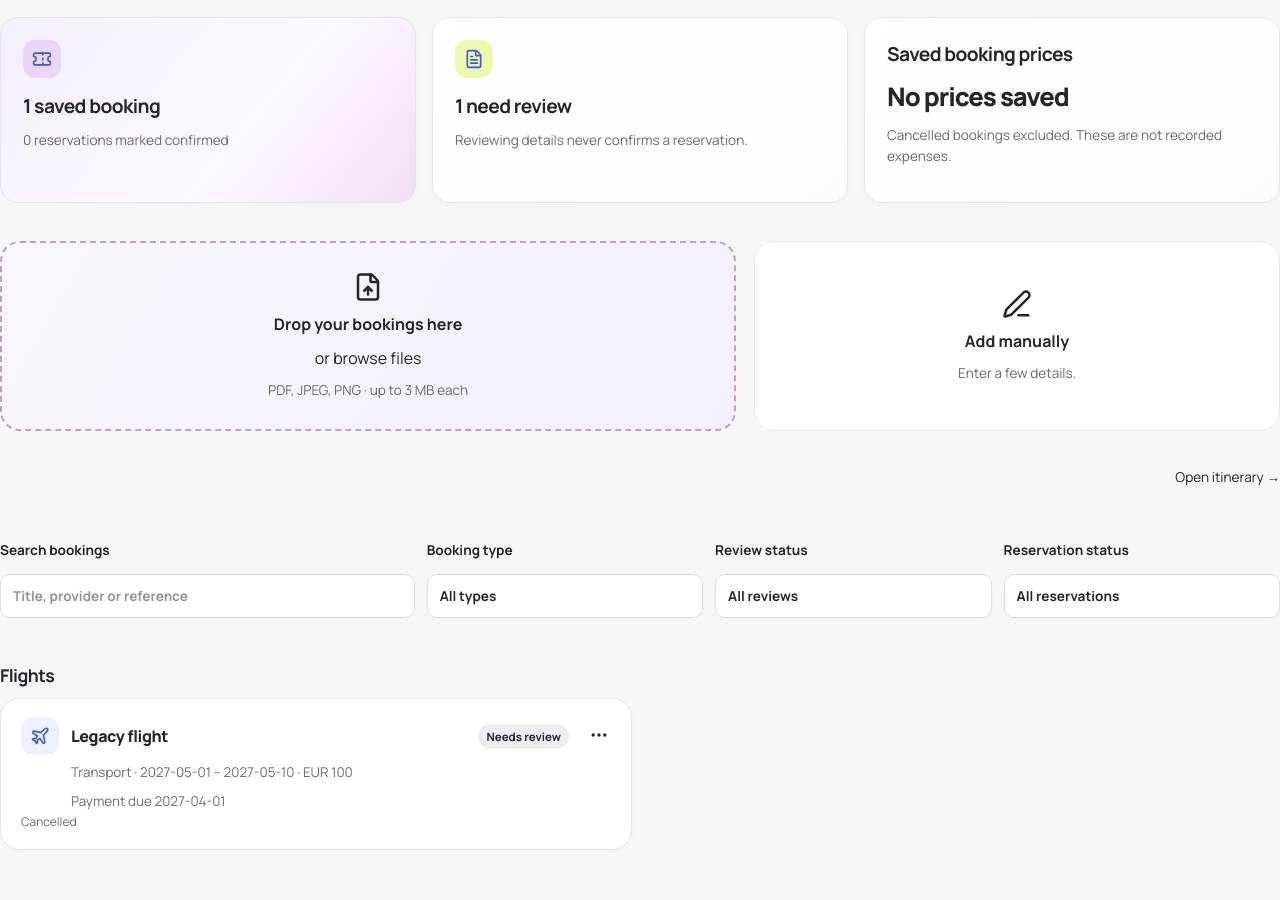
Test: opens the same compact drawer and preserves hidden fields and independent statuses
(page scrolled)
Step 1. Click the button "Legacy flight" → {"x": 120, "y": 736}, box [71,724,168,748]
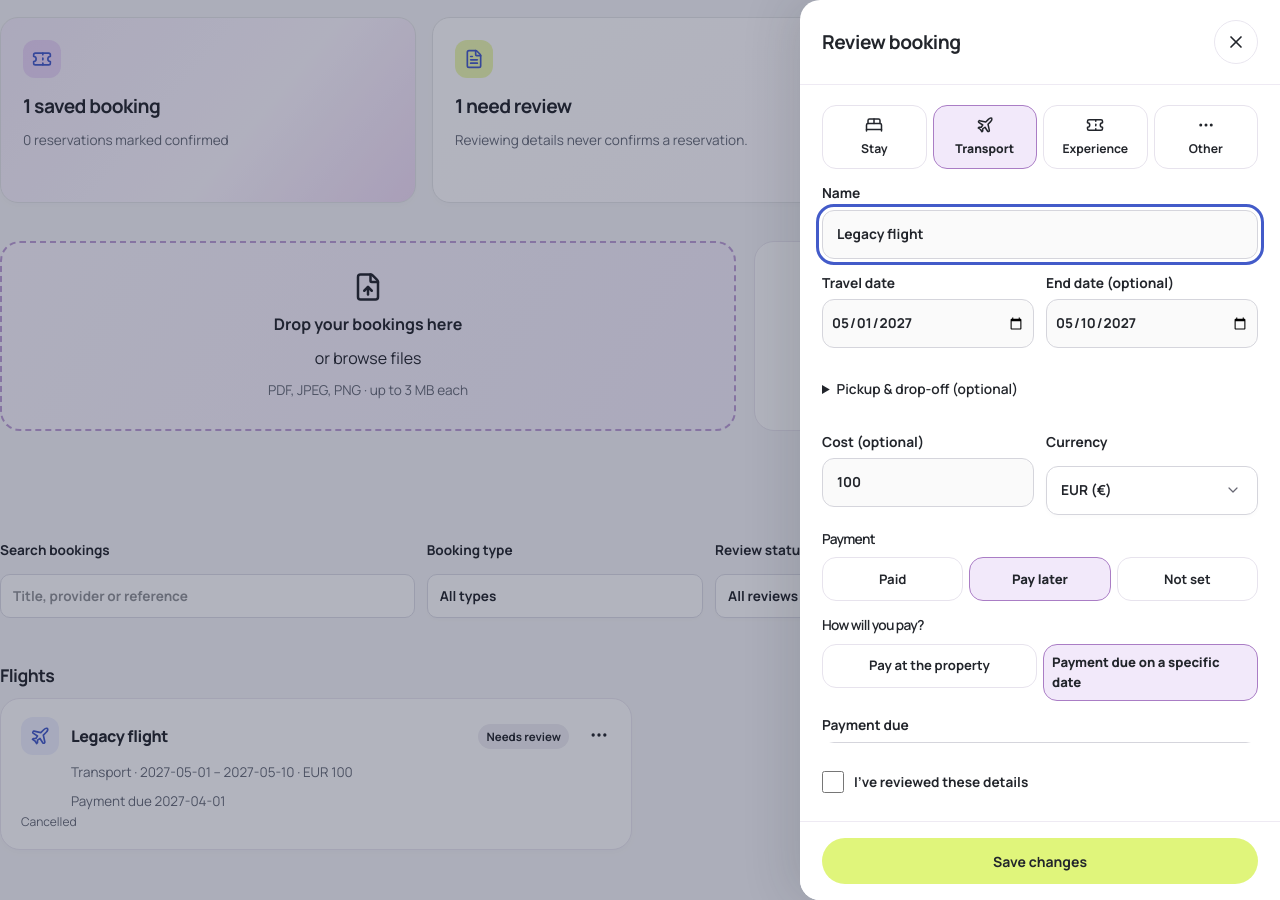
Expected: the dialog is shown, [800,0,1279,899]
Step 2. Replace the text in the field labelled "Name" with "Updated flight" → {"x": 1040, "y": 234}, box [822,210,1258,258]
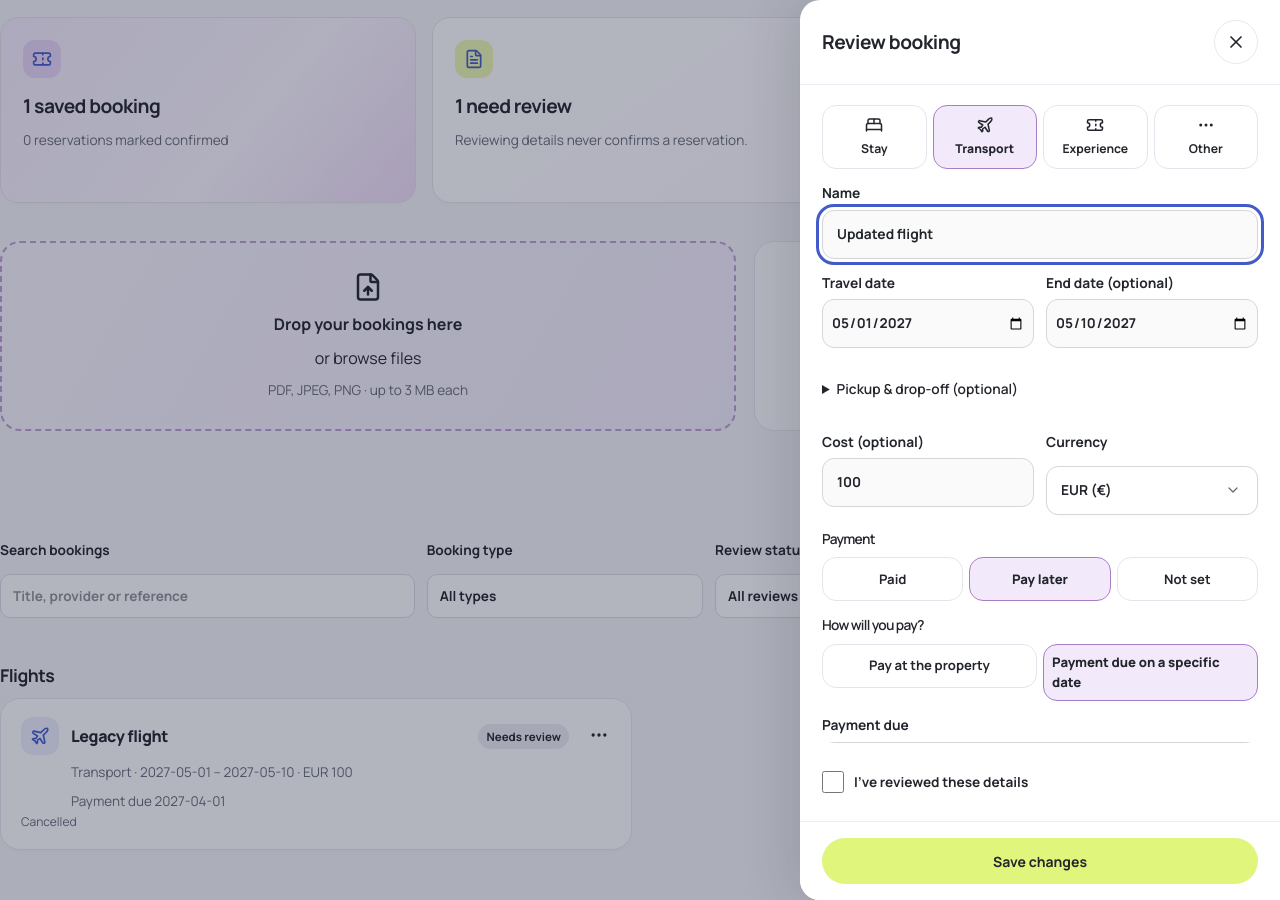
Step 3. Click the button "Save changes" → {"x": 1040, "y": 861}, box [822,838,1258,884]
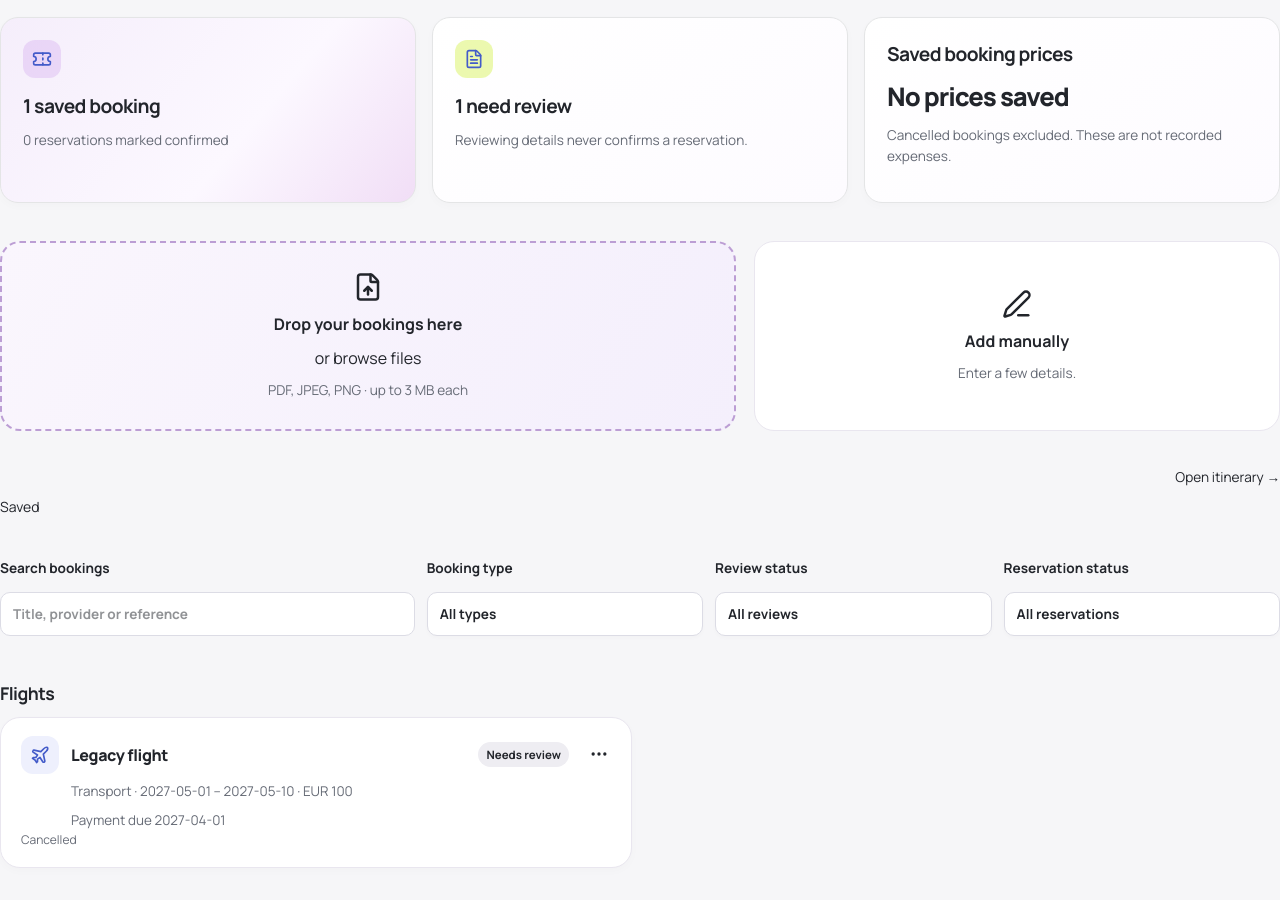
Expected: the dialog is gone
